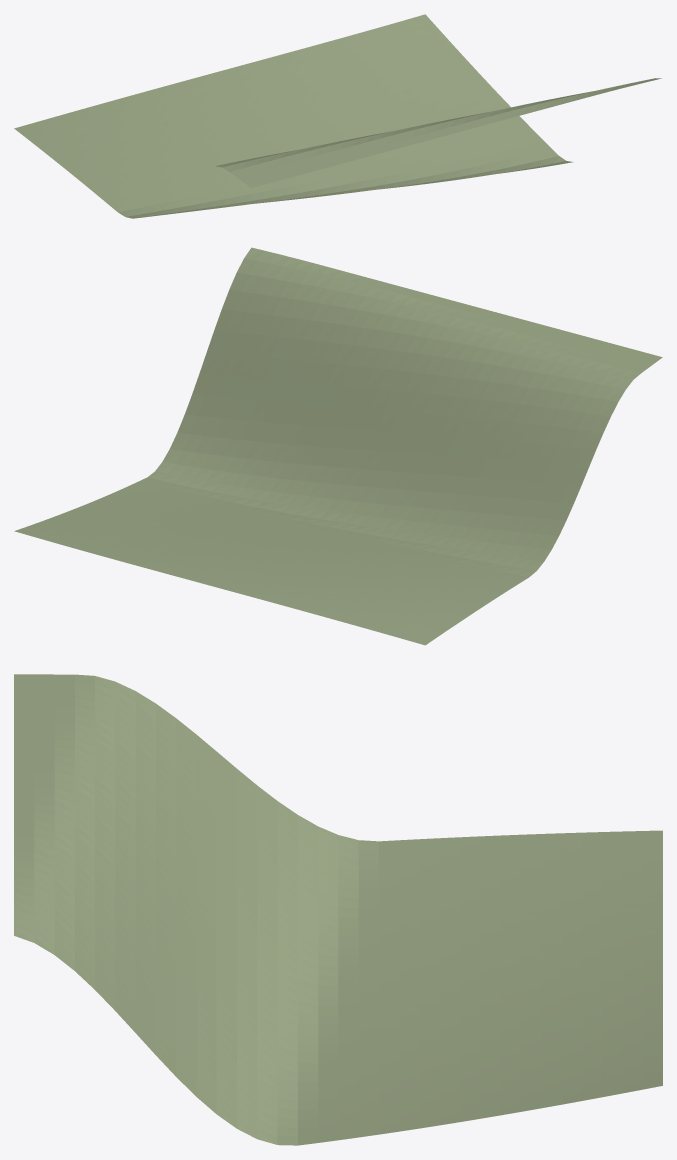
Rendered from alpine-4-10.glb.
The picture shows the model from 3 angles, top to bottom: view 1: azimuth 30°, elevation 25°; view 2: azimuth 150°, elevation 25°; view 3: azimuth 270°, elevation 25°; orthographic projection. The views are drawn at different scales.
Visible parts, largest first — view 1: alpine-4-10; view 2: alpine-4-10; view 3: alpine-4-10.
Boxes of the visible parts, x1=… form: alpine-4-10: x1=14, y1=14, x2=661, y2=218; alpine-4-10: x1=14, y1=247, x2=662, y2=645; alpine-4-10: x1=14, y1=674, x2=662, y2=1145.
Size of the model in its own units: 256 by 91.36 by 256.
